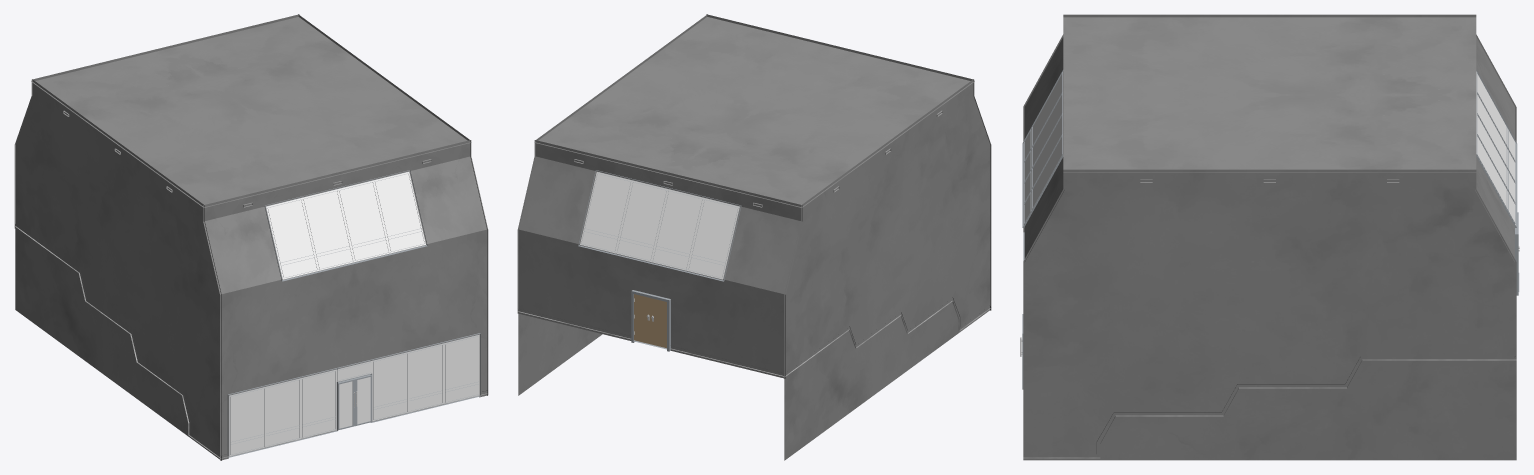
The model's file is ProcessingRoomMesh.glb.
The picture shows the model from 3 angles, left to right: view 1: azimuth 30°, elevation 25°; view 2: azimuth 150°, elevation 25°; view 3: azimuth 270°, elevation 25°; orthographic projection. The views are drawn at different scales.
Visible parts, largest first — view 1: prSWall, prWWall, prCeiling, prNWall, pr2srDoorR, pr2srDoorL, prEWall, prFloor; view 2: prWWall, prNWall, prCeiling, prEWall, prSWall, prDoorMainL, prDoorMainR, prFloor; view 3: prEWall, prCeiling, prNWall, prSWall, prWWall, prFloor.
Boxes of the visible parts, left/top/right/bottom form: prSWall: left=203, top=140, right=488, bottom=460; prWWall: left=15, top=79, right=221, bottom=460; prCeiling: left=31, top=17, right=471, bottom=207; prNWall: left=14, top=14, right=299, bottom=228; pr2srDoorR: left=337, top=379, right=354, bottom=430; pr2srDoorL: left=355, top=375, right=371, bottom=426; prEWall: left=298, top=14, right=487, bottom=395; prFloor: left=15, top=226, right=488, bottom=458; prWWall: left=784, top=79, right=989, bottom=460; prNWall: left=517, top=140, right=802, bottom=378; prCeiling: left=534, top=17, right=974, bottom=207; prEWall: left=518, top=14, right=707, bottom=395; prSWall: left=706, top=14, right=991, bottom=310; prDoorMainL: left=634, top=294, right=650, bottom=344; prDoorMainR: left=651, top=298, right=666, bottom=348; prFloor: left=517, top=301, right=990, bottom=376; prEWall: left=1023, top=169, right=1516, bottom=460; prCeiling: left=1063, top=17, right=1476, bottom=172; prNWall: left=1475, top=37, right=1519, bottom=356; prSWall: left=1022, top=37, right=1064, bottom=454; prWWall: left=1023, top=14, right=1516, bottom=232; prFloor: left=1023, top=359, right=1516, bottom=458.
Bounding box in the file's own units: 12 × 10.4 × 16.19.
11 materials, 2 textured.
